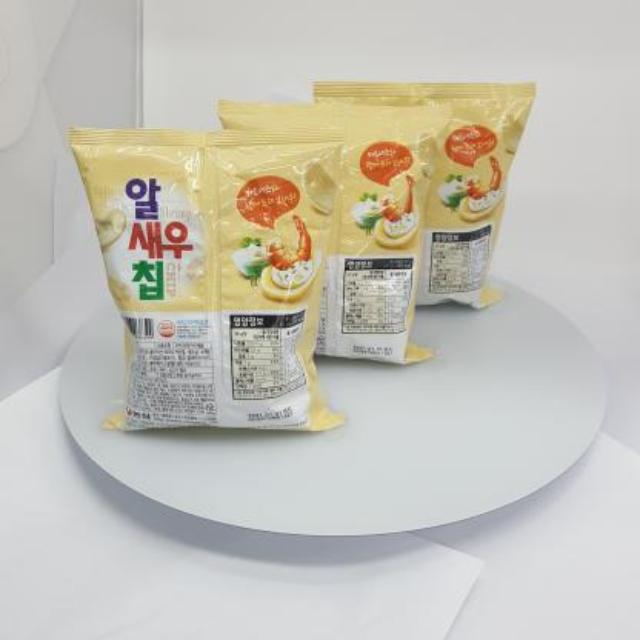snack_bag: (56, 70, 558, 458)
